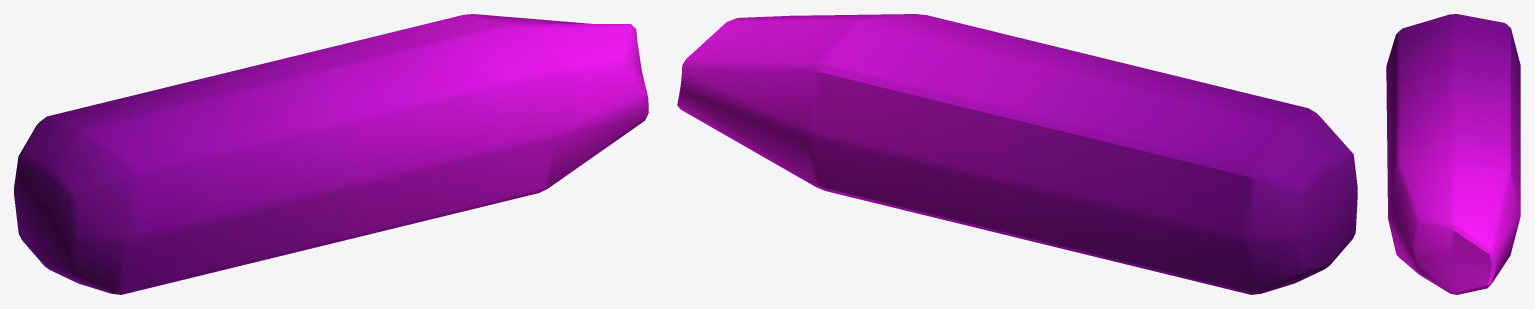
File: Iron Ore.fbx
The picture shows the model from 3 angles, left to right: view 1: azimuth 30°, elevation 25°; view 2: azimuth 150°, elevation 25°; view 3: azimuth 270°, elevation 25°; orthographic projection. The views are drawn at different scales.
Visible parts, largest first — view 1: Cube.056; view 2: Cube.056; view 3: Cube.056.
Part boxes in pixels (left/top/right/bottom): Cube.056: left=14, top=14, right=648, bottom=294; Cube.056: left=677, top=14, right=1357, bottom=294; Cube.056: left=1386, top=14, right=1520, bottom=294.
Size of the model in its own units: 1.42 by 0.3381 by 0.3771.
